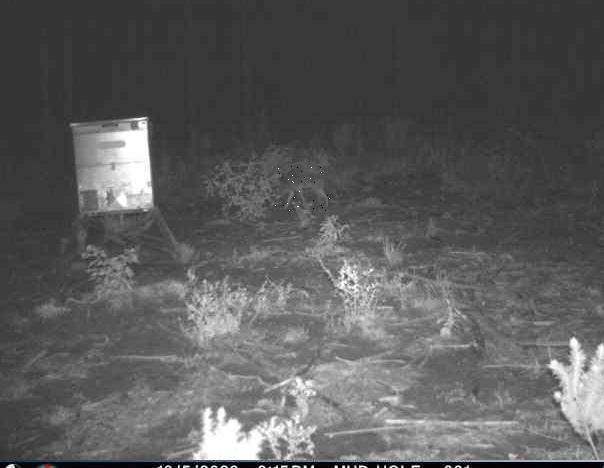Coyote: (275, 166, 330, 212)
